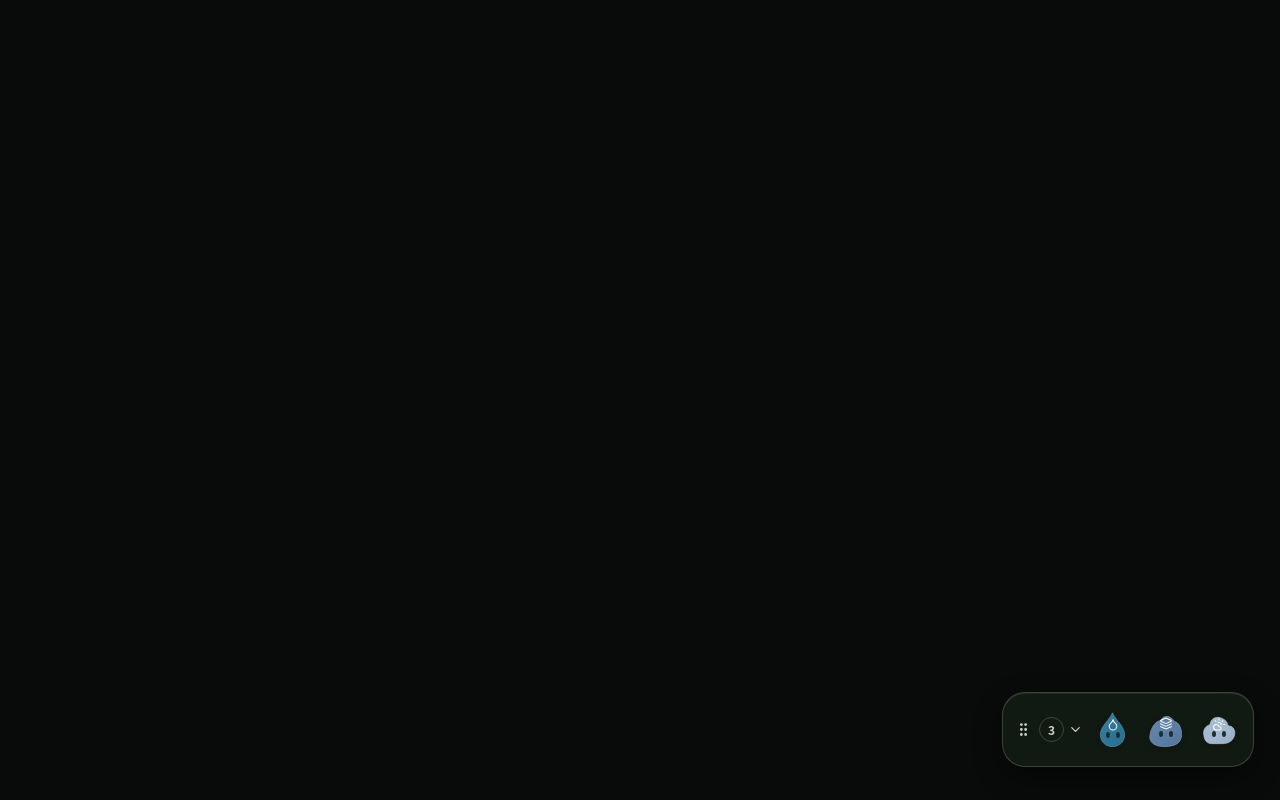
updates only the active bot conversation language when the UI locale changes
Later steps or results of the test are not shown.
Click the button named "Open Water specialist". click: click(1112, 730)
box: [1088, 705, 1137, 754]
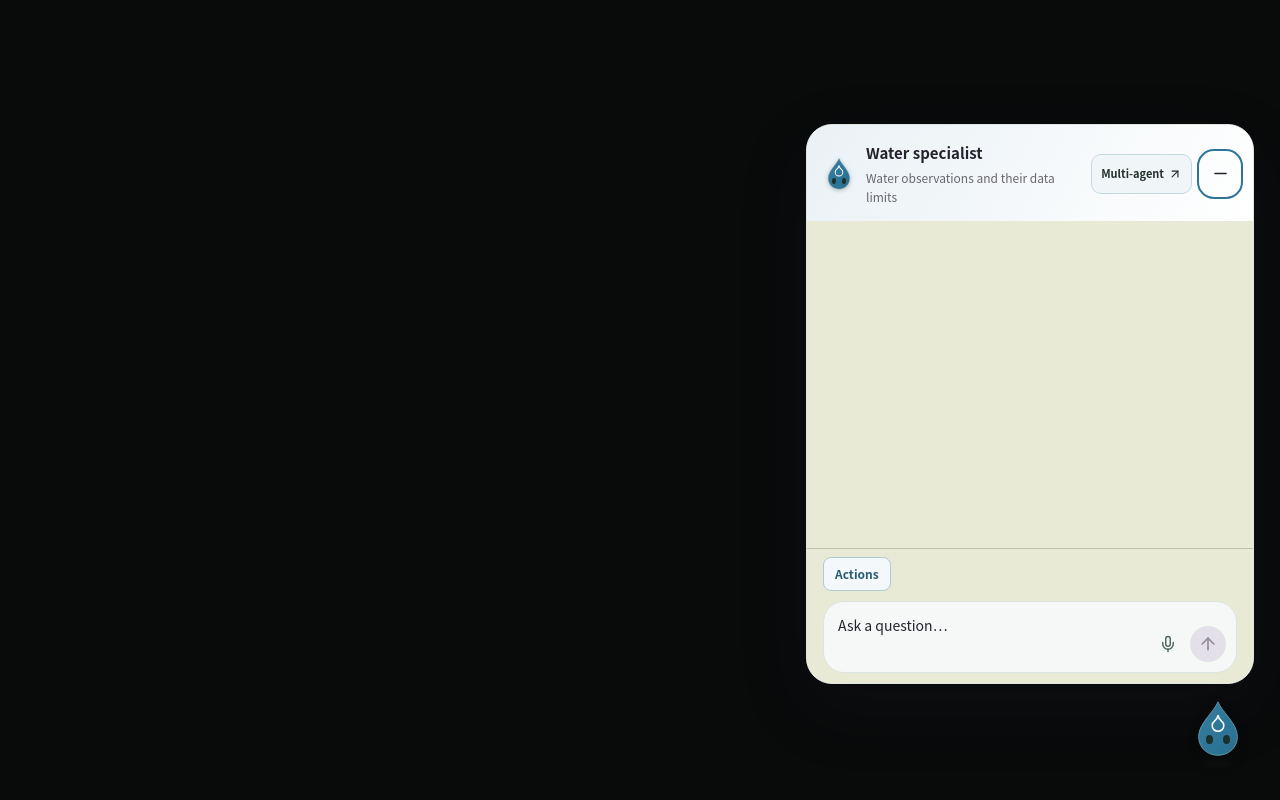
expect the text box named "Message Water specialist" is shown: met, box [838, 614, 1142, 662]
